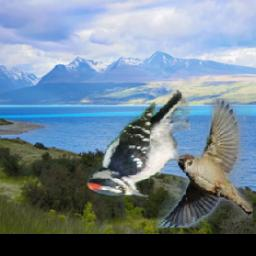Sparrow: (156, 99, 253, 228)
Woodpecker: (83, 90, 190, 201)
